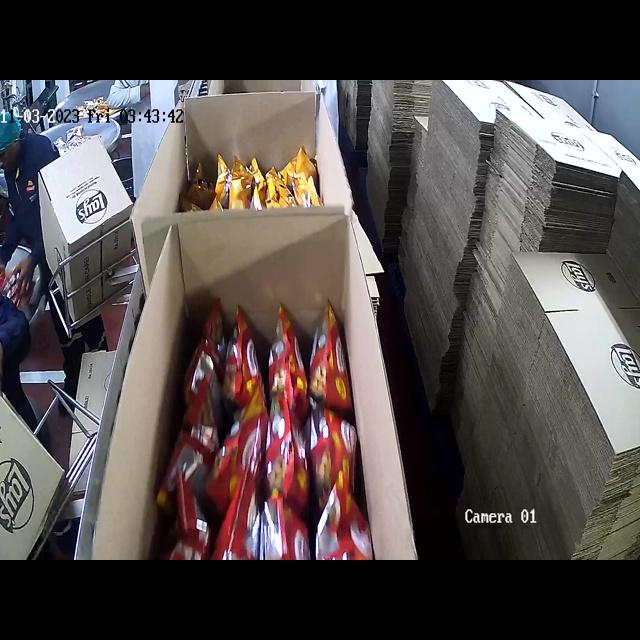cheese: (187, 136, 344, 218)
masala: (182, 301, 371, 560)
